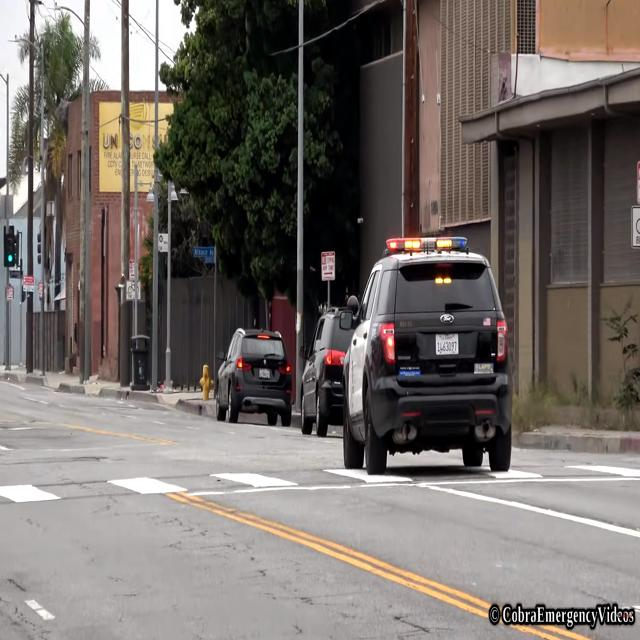emergency-vehicles: (335, 225, 532, 502)
